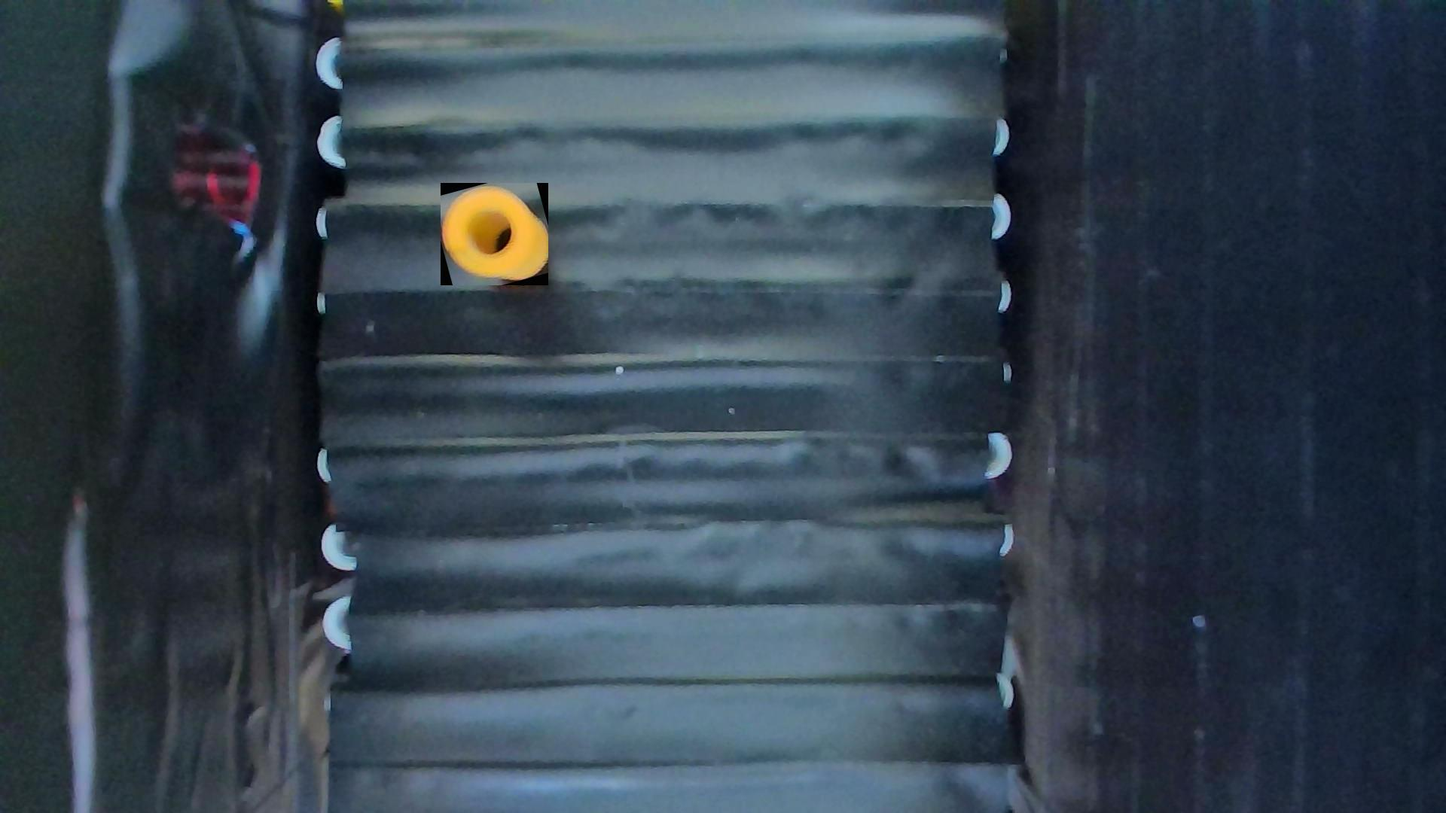spring: (441, 183, 548, 285)
